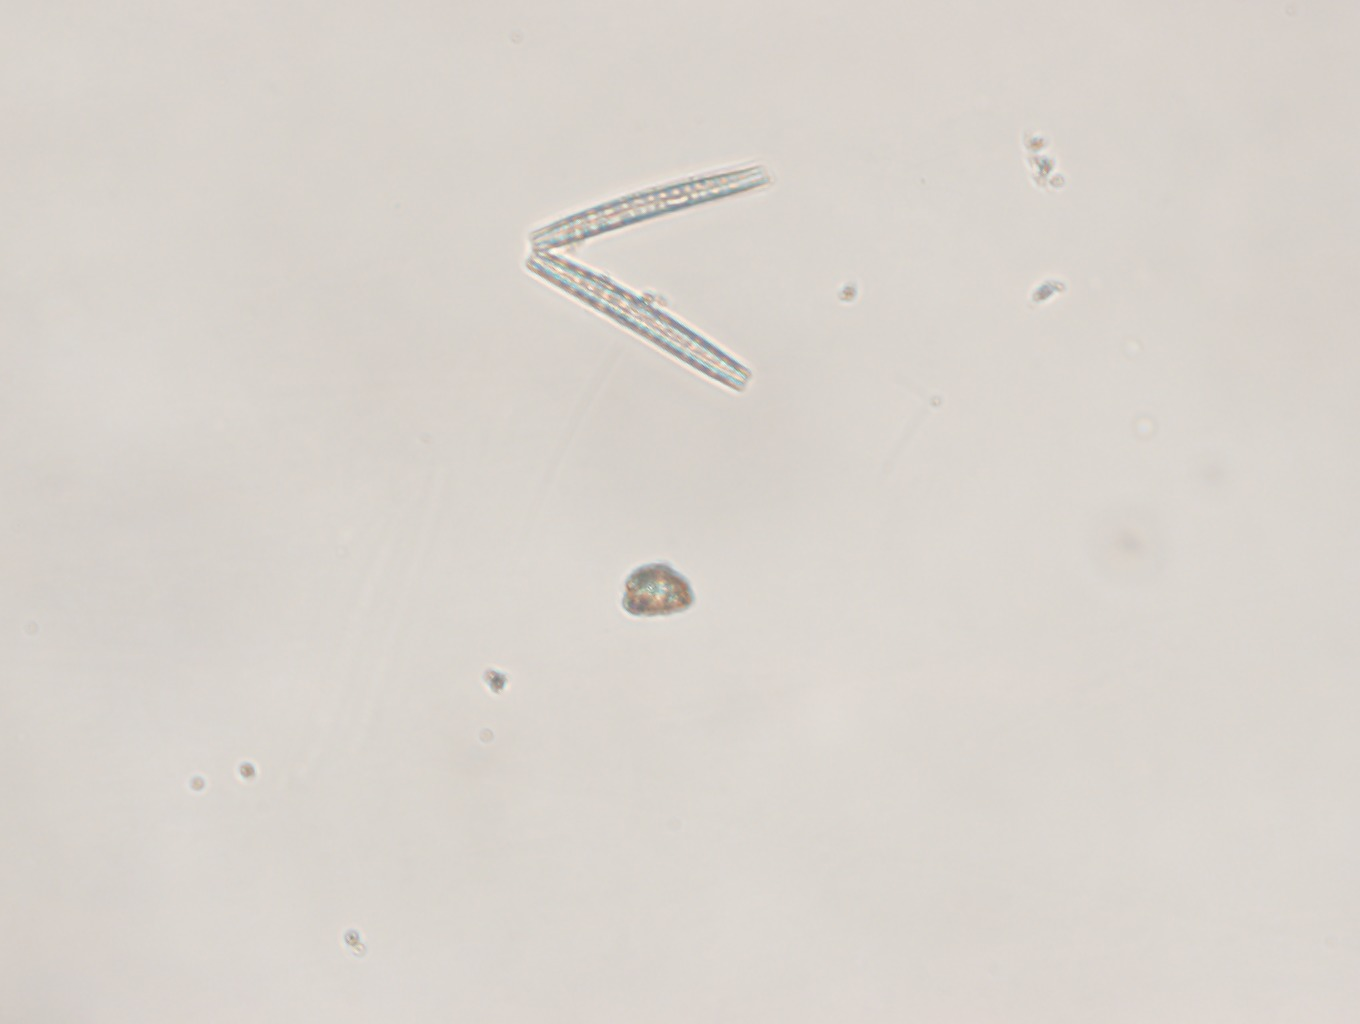thalassionema nitzschioides: (513, 162, 786, 407)
